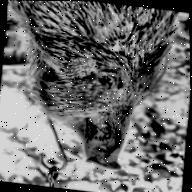boar: (31, 1, 177, 184)
